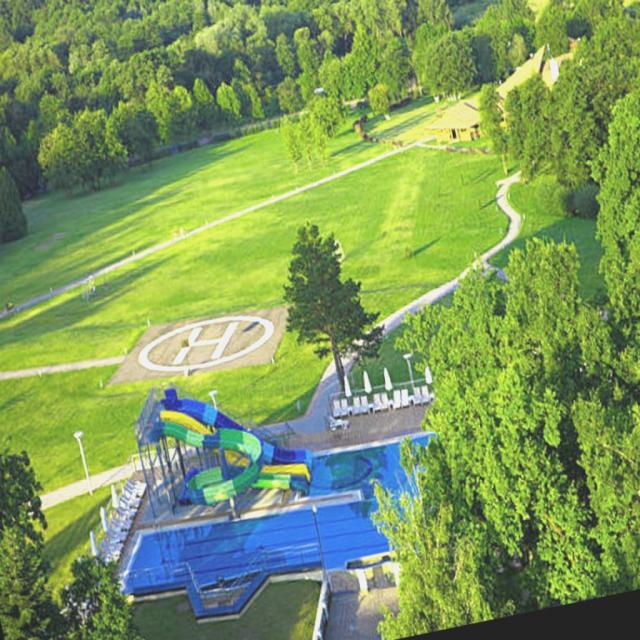helipad: (134, 312, 276, 373)
